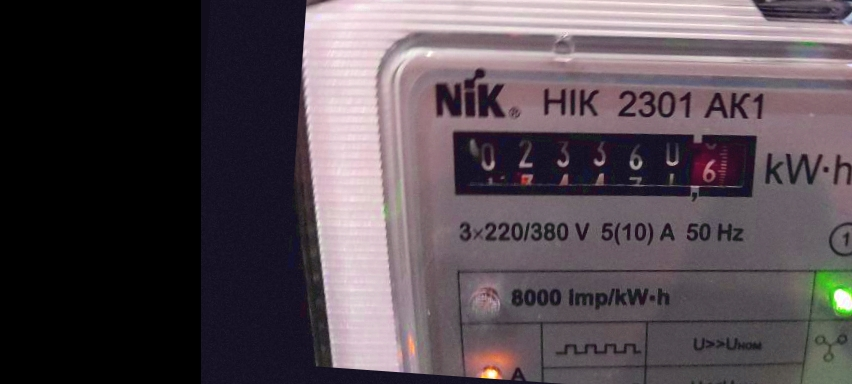0: (475, 137, 500, 173), (659, 136, 683, 169)
2: (515, 135, 537, 170)
3: (589, 133, 610, 168), (551, 137, 572, 169)
6: (698, 152, 721, 187), (624, 138, 647, 172)
screen: (431, 104, 775, 222)
